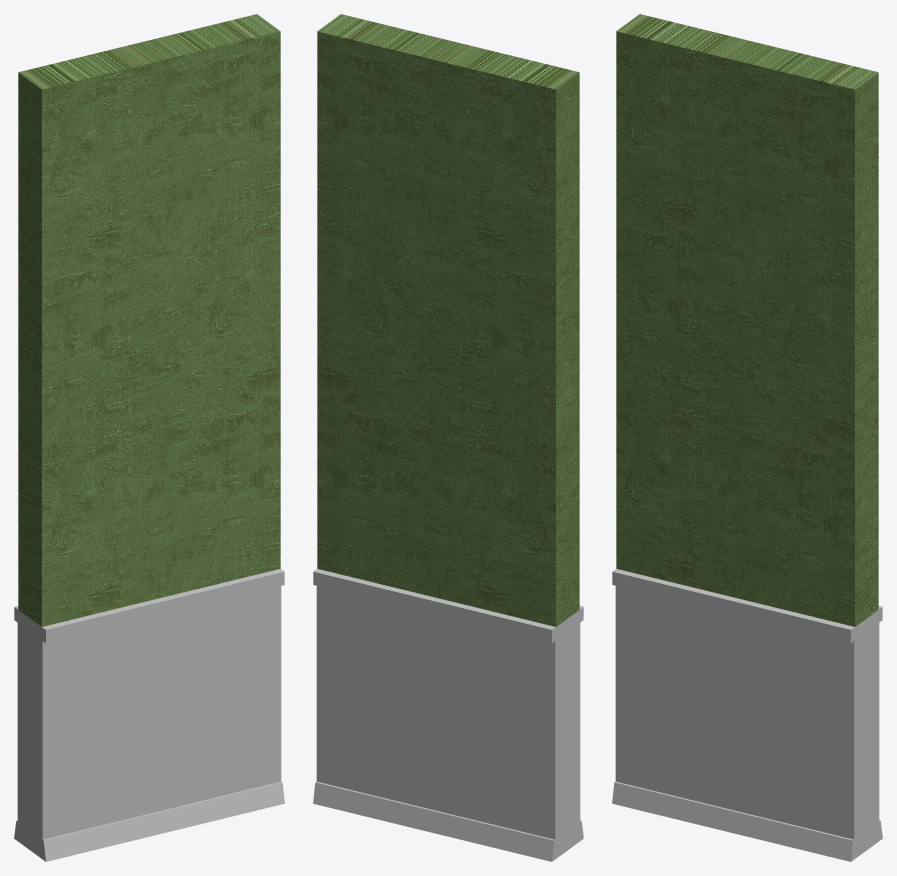
The model's file is OfficeWallHalf02.fbx.
3 renders of one model, left to right at view 1: azimuth 30°, elevation 25°; view 2: azimuth 150°, elevation 25°; view 3: azimuth 330°, elevation 25°, orthographic.
Visible parts, largest first — view 1: Cube.027; view 2: Cube.027; view 3: Cube.027.
Part boxes in pixels (x1=…): Cube.027: x1=14, y1=14, x2=284, y2=861; Cube.027: x1=313, y1=14, x2=583, y2=861; Cube.027: x1=612, y1=14, x2=882, y2=861.
Bounding box in the file's own units: 325 × 1000 × 75.3.
